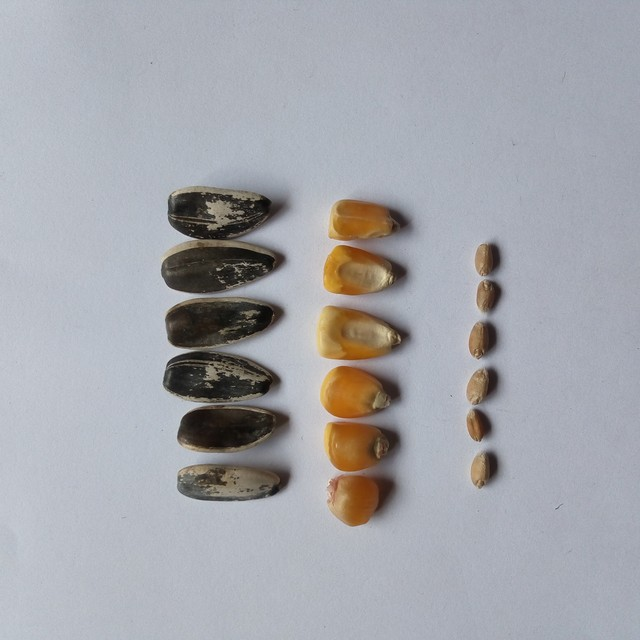girasol: (154, 238, 287, 293), (161, 349, 287, 402), (161, 183, 275, 239), (162, 296, 284, 347), (169, 459, 288, 508), (176, 404, 289, 454)
maiz: (318, 303, 409, 361), (316, 244, 407, 296), (320, 364, 403, 419), (319, 421, 400, 472), (320, 472, 389, 527), (327, 196, 406, 242)
trigo: (464, 365, 502, 405), (474, 241, 508, 279), (467, 447, 499, 487), (469, 318, 496, 362), (461, 407, 493, 441), (473, 279, 503, 313)
